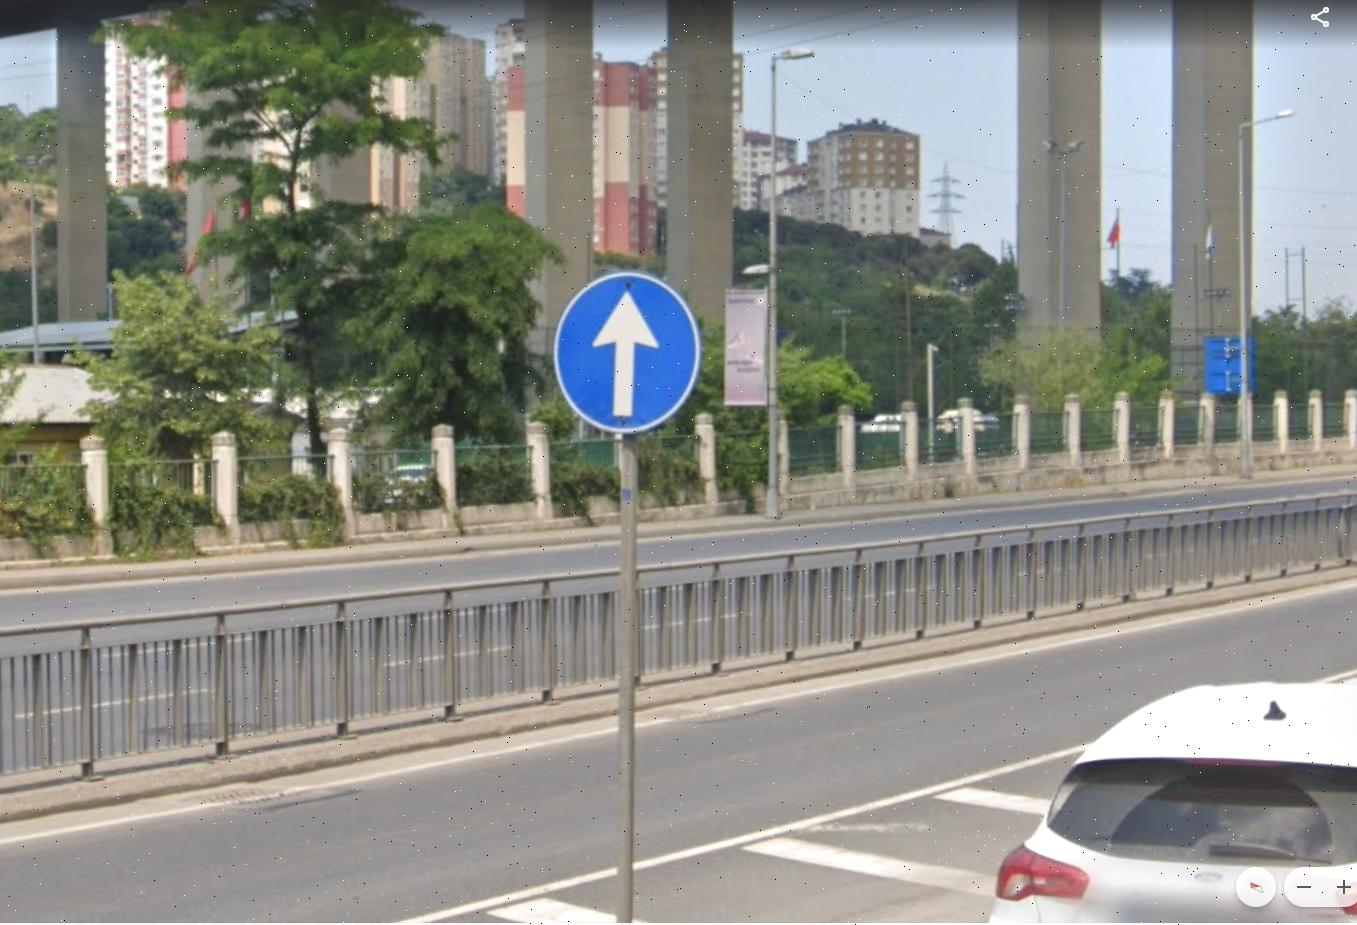forward: (557, 279, 698, 428)
